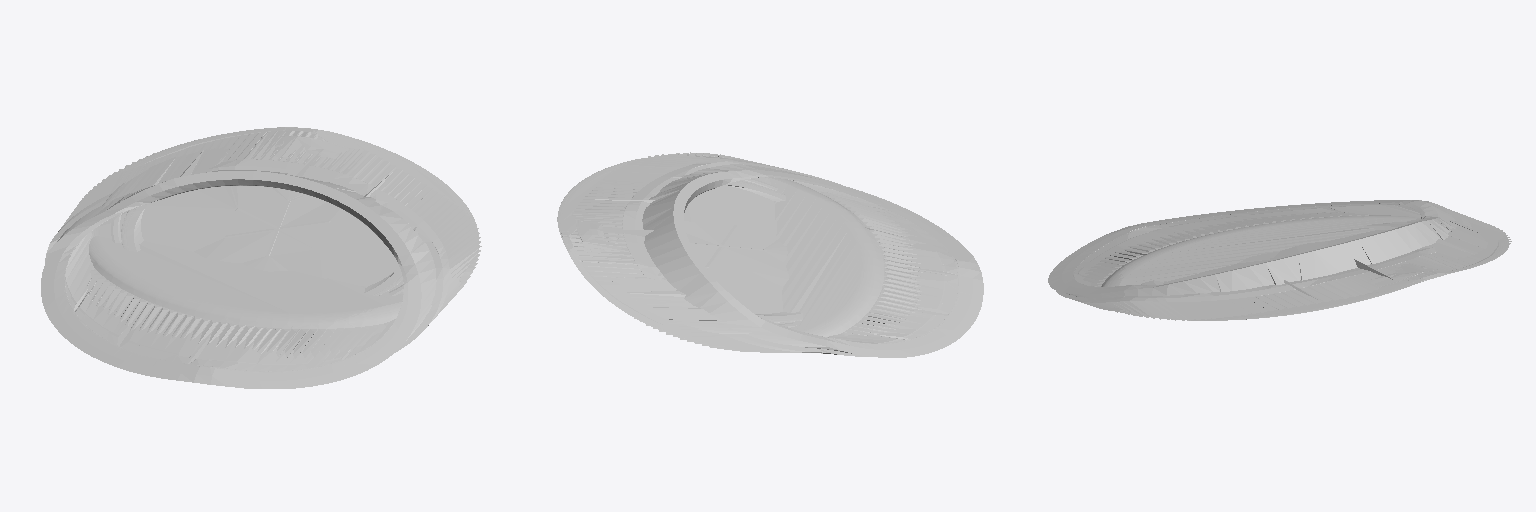
File: bottle_cap_short.005.obj
3 views of the same model, side by side, from view 1: azimuth 30°, elevation 25°; view 2: azimuth 150°, elevation 25°; view 3: azimuth 270°, elevation 25° (orthographic).
Parts seen in each view (by area): view 1: bottle_cap_short.005; view 2: bottle_cap_short.005; view 3: bottle_cap_short.005.
Part boxes in pixels (bbox=[...]): bottle_cap_short.005: bbox=[41, 127, 481, 388]; bottle_cap_short.005: bbox=[557, 152, 983, 357]; bottle_cap_short.005: bbox=[1048, 200, 1511, 320].
Bounding box in the file's own units: 0.0324 × 0.0071 × 0.035.